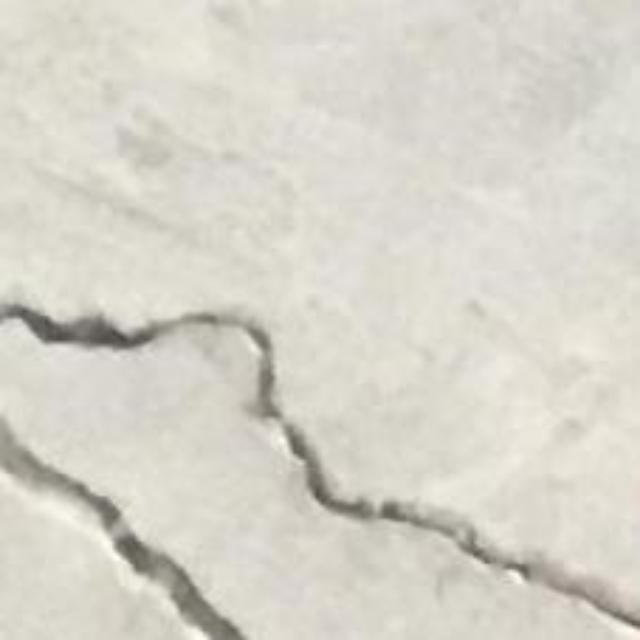crack: (0, 305, 639, 631)
